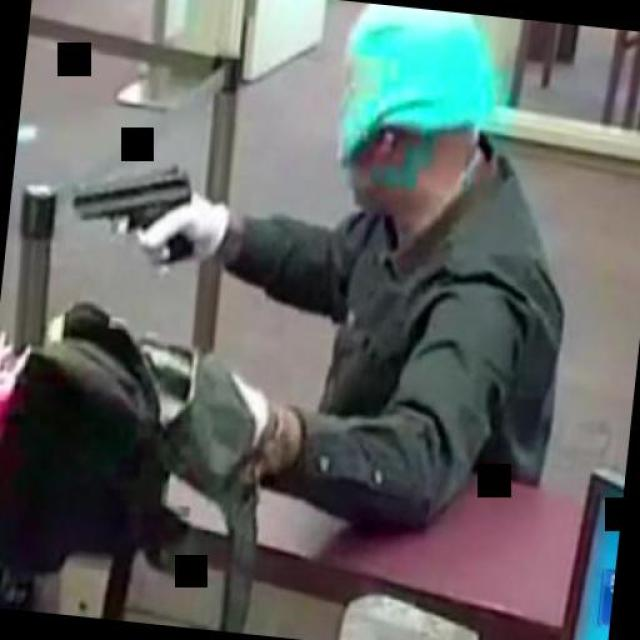gun: (61, 152, 209, 276)
